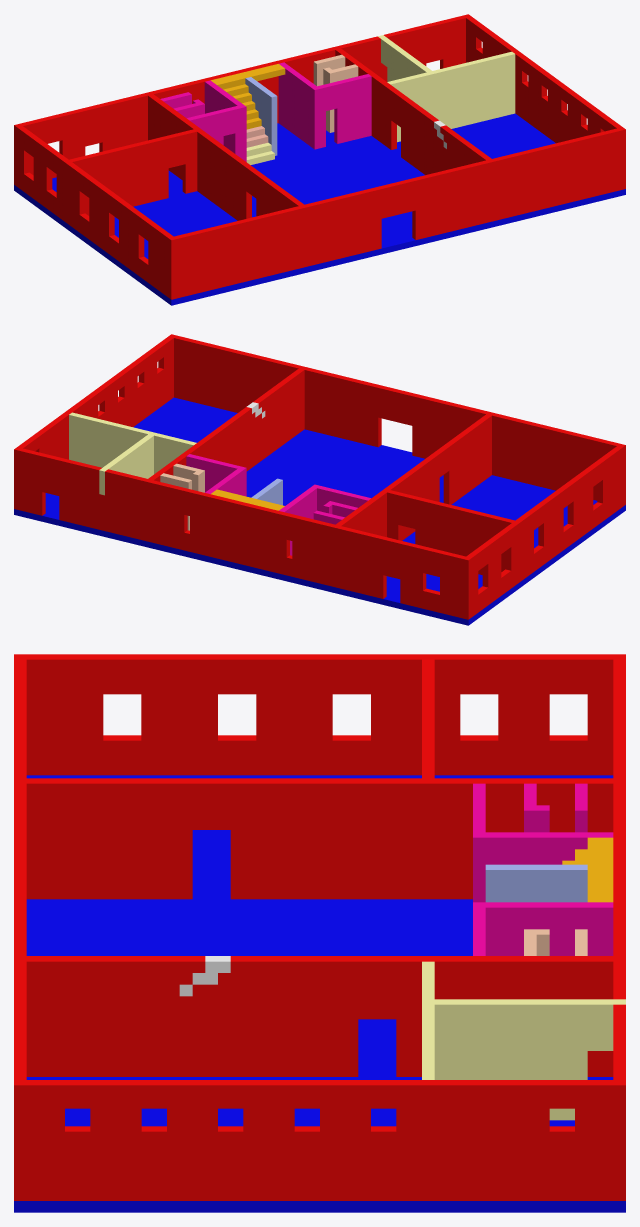
The model's file is convitto.gltf.
3 renders of one model, top to bottom at view 1: azimuth 30°, elevation 25°; view 2: azimuth 150°, elevation 25°; view 3: azimuth 270°, elevation 25°, orthographic. The views are drawn at different scales.
Parts seen in each view (by area): view 1: Layer.1; view 2: Layer.1; view 3: Layer.1.
Boxes of the visible parts, x1,y1,x2,y2 form: Layer.1: (14, 14, 625, 305); Layer.1: (14, 334, 625, 625); Layer.1: (14, 654, 625, 1212).
Size of the model in its own units: 80 by 11 by 48.
Materials: 1 (1 with a texture image).
